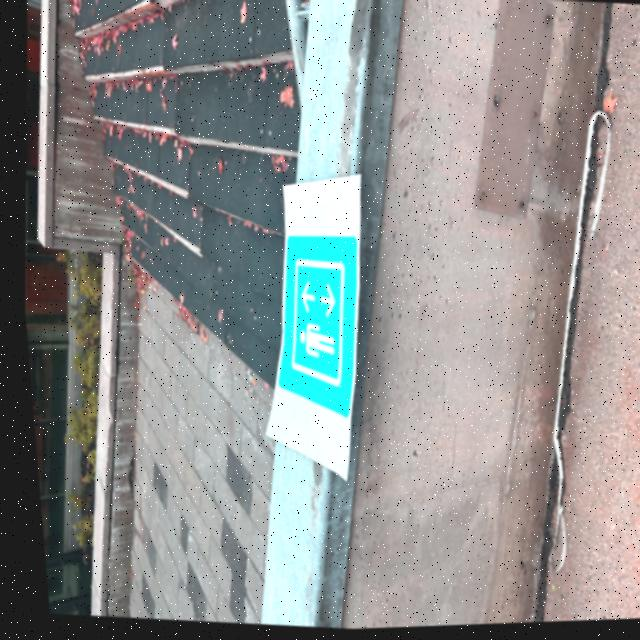elevator: (279, 233, 358, 415)
